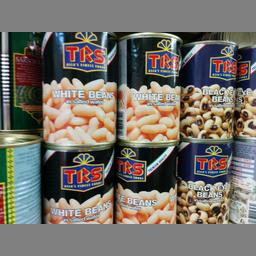beans: (39, 32, 119, 142), (124, 31, 180, 143), (41, 145, 112, 223), (184, 36, 235, 138), (116, 145, 178, 222), (178, 143, 234, 223)
